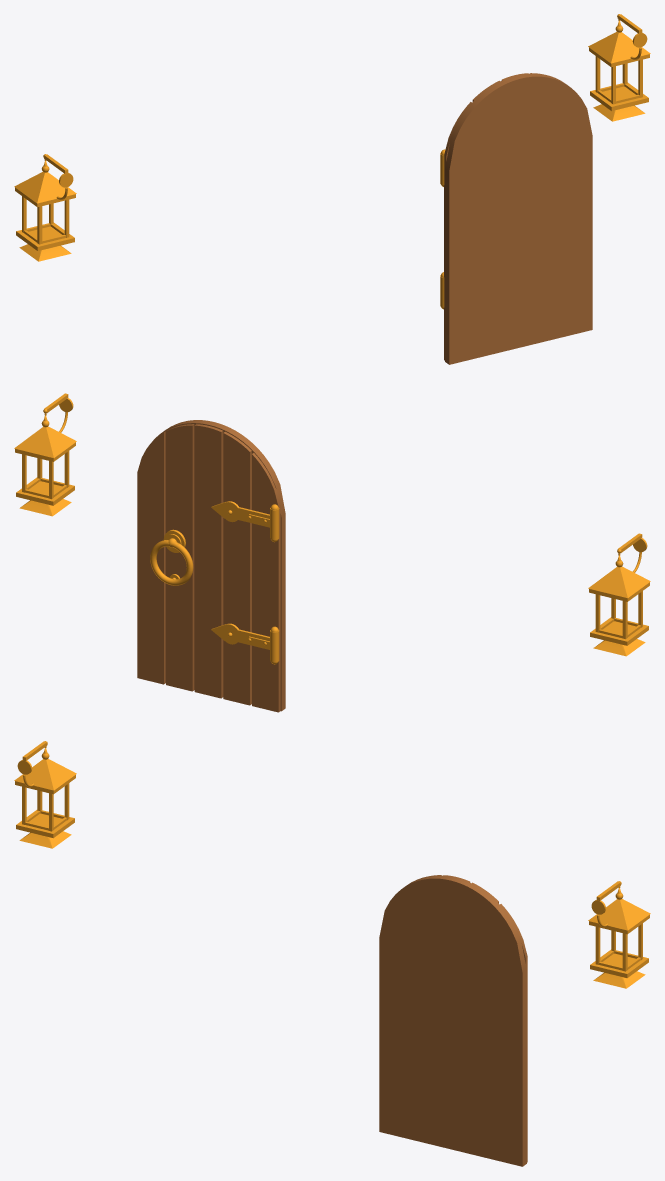
File: HaloShop_Juice_ornaments.glb
3 views of the same model, one above another, from view 1: azimuth 30°, elevation 25°; view 2: azimuth 150°, elevation 25°; view 3: azimuth 330°, elevation 25° (orthographic).
Visible parts, largest first — view 1: Orn_HaloShop_Juice_Leaf, Orn_HaloShop_Juice_Lantern1, Orn_HaloShop_Juice_Lantern0; view 2: Orn_HaloShop_Juice_Leaf, Orn_HaloShop_Juice_Lantern0, Orn_HaloShop_Juice_Lantern1, Orn_HaloShop_Juice_Hinge0, Orn_HaloShop_Juice_Hinge1, Orn_HaloShop_Juice_Knocker; view 3: Orn_HaloShop_Juice_Leaf, Orn_HaloShop_Juice_Lantern1, Orn_HaloShop_Juice_Lantern0.
Part boxes in pixels (x1,y1,x2,y2): Orn_HaloShop_Juice_Leaf: (444, 73, 592, 364); Orn_HaloShop_Juice_Lantern1: (14, 154, 76, 261); Orn_HaloShop_Juice_Lantern0: (588, 14, 650, 121); Orn_HaloShop_Juice_Leaf: (137, 420, 285, 712); Orn_HaloShop_Juice_Lantern0: (14, 393, 76, 516); Orn_HaloShop_Juice_Lantern1: (588, 533, 650, 656); Orn_HaloShop_Juice_Hinge0: (211, 623, 279, 664); Orn_HaloShop_Juice_Hinge1: (211, 501, 279, 542); Orn_HaloShop_Juice_Knocker: (150, 529, 193, 585); Orn_HaloShop_Juice_Leaf: (379, 875, 527, 1166); Orn_HaloShop_Juice_Lantern1: (14, 741, 76, 848); Orn_HaloShop_Juice_Lantern0: (588, 881, 650, 988).
Bounding box in the file's own units: 18.4 × 7.88 × 2.42.
